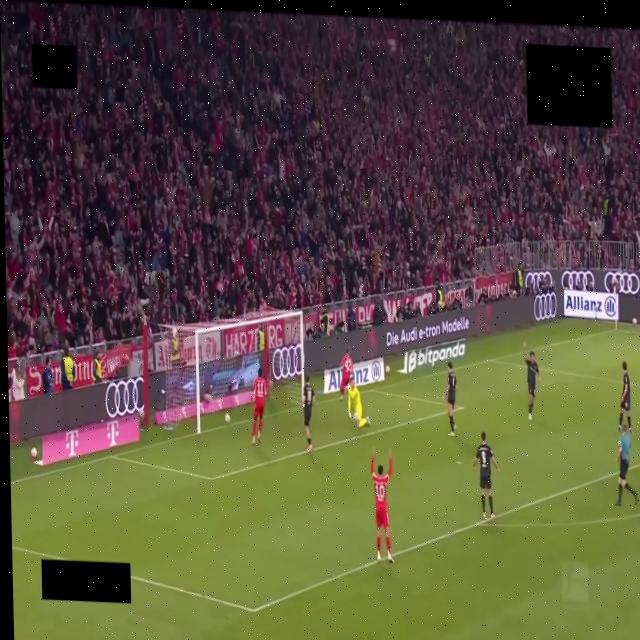ball: (225, 414, 230, 423)
player: (371, 449, 393, 563), (473, 432, 499, 518), (523, 343, 540, 420), (252, 367, 268, 445), (348, 375, 370, 428), (302, 375, 315, 452), (443, 362, 456, 436), (619, 361, 632, 434), (340, 348, 353, 399)
referee: (616, 425, 638, 506)
